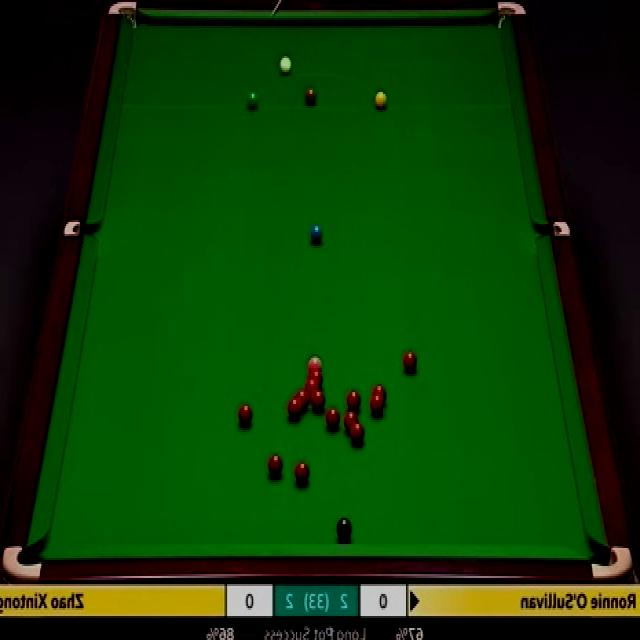black-ball: (337, 514, 352, 542)
blue-ball: (310, 222, 324, 246)
brown-ball: (306, 88, 318, 106)
green-ball: (247, 90, 258, 110)
pink-ball: (308, 354, 324, 368)
red-ball: (348, 422, 363, 447), (324, 407, 340, 429), (268, 454, 284, 476), (236, 404, 252, 426), (294, 461, 310, 483), (369, 396, 384, 419), (403, 349, 418, 372), (287, 396, 301, 420), (371, 383, 387, 403), (346, 392, 361, 412), (342, 411, 356, 430), (311, 391, 327, 407), (293, 392, 308, 408), (304, 378, 322, 391), (308, 370, 324, 380)
white-ball: (277, 52, 293, 78)
yellow-ball: (373, 89, 388, 110)
